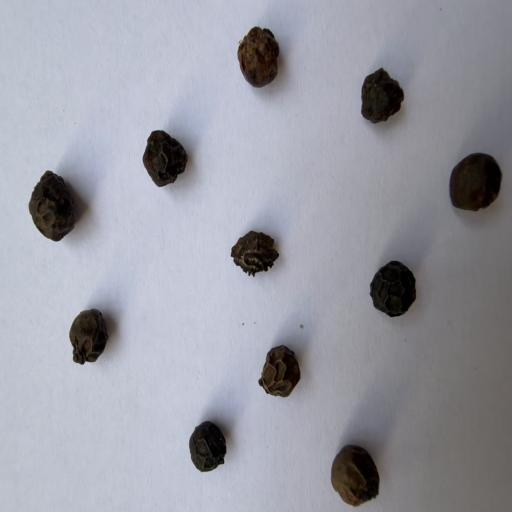Black_pepper: (430, 121, 512, 224), (353, 47, 413, 156), (221, 25, 301, 105), (170, 393, 229, 492), (318, 419, 380, 512), (21, 155, 83, 243), (57, 295, 119, 383), (370, 255, 422, 343), (140, 120, 192, 203), (257, 330, 301, 415)
papaya_seed: (213, 212, 290, 288)
